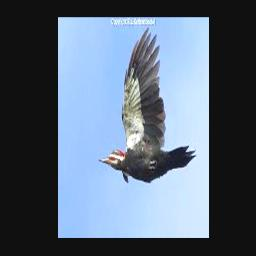Woodpecker: (98, 27, 196, 182)
